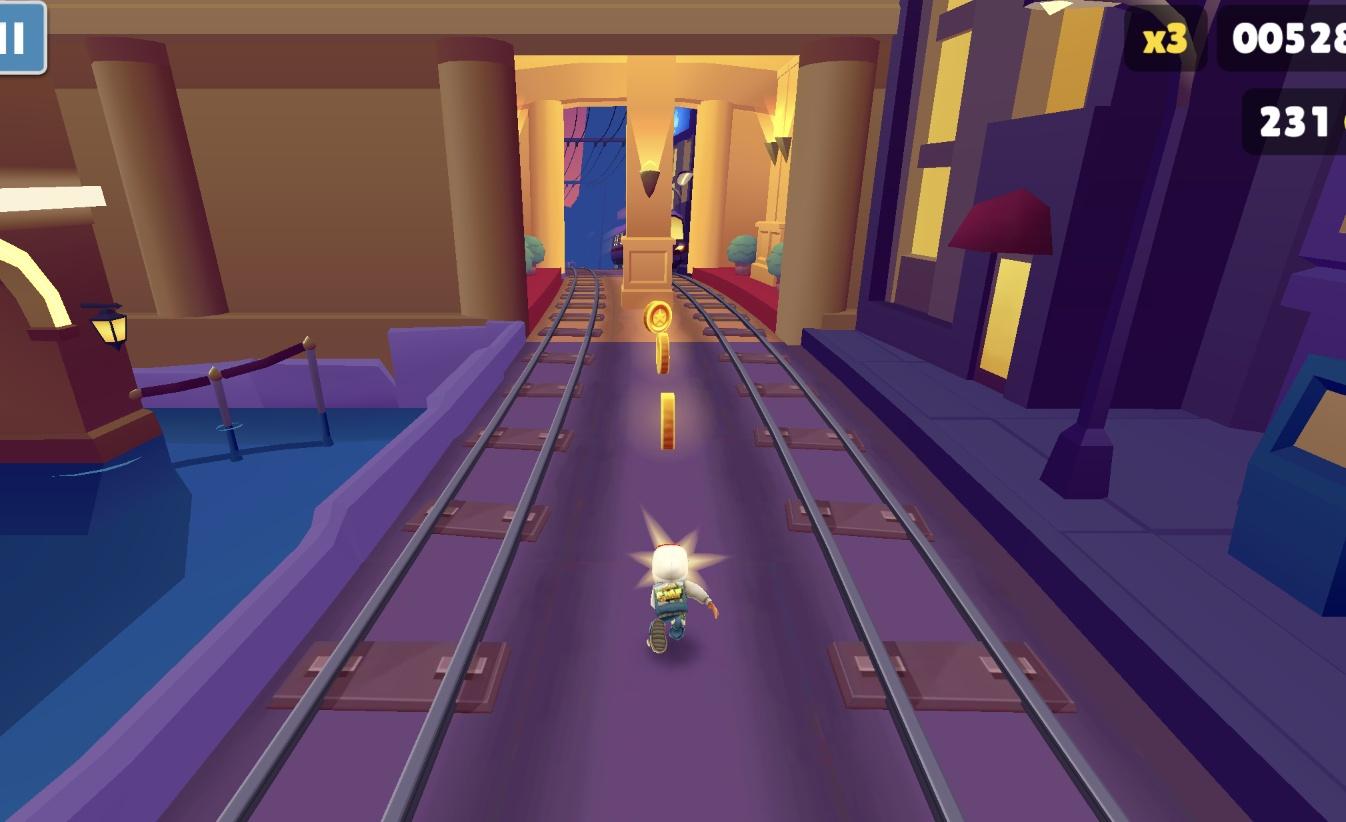pillar: (622, 46, 676, 304)
train: (674, 208, 692, 274)
